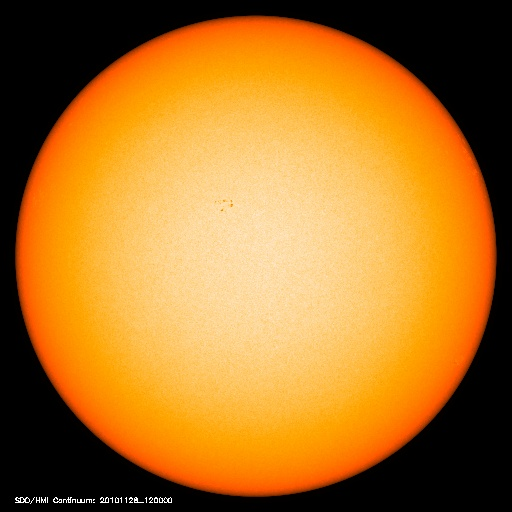sunspot: (208, 191, 241, 217)
